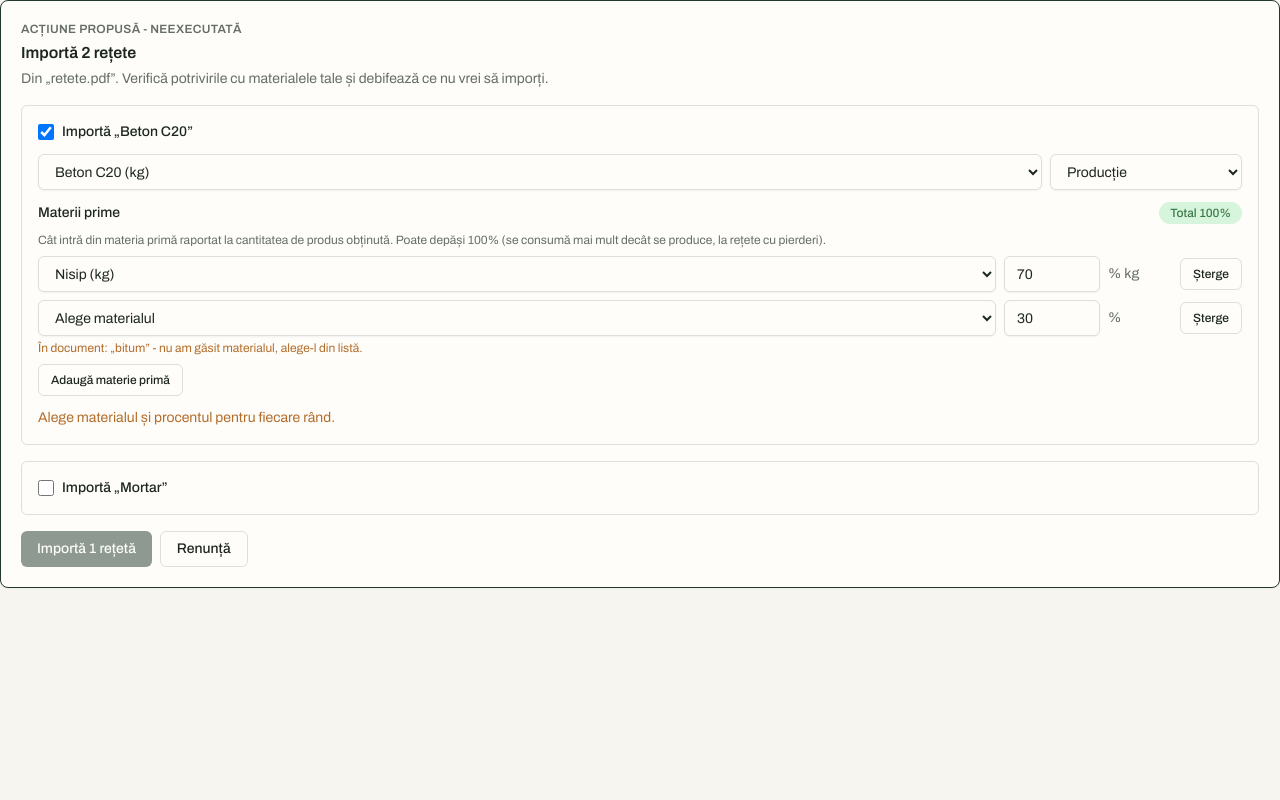
Scenario: ActionCard - randerul recipe_import › bifarea unui produs care are deja reteta blocheaza confirmarea, cu explicatie
The width and height of the screenshot is (1280, 800).
Click the checkbox labelled "Importă „Mortar”".
click(46, 488)  # box [38,480,54,496]
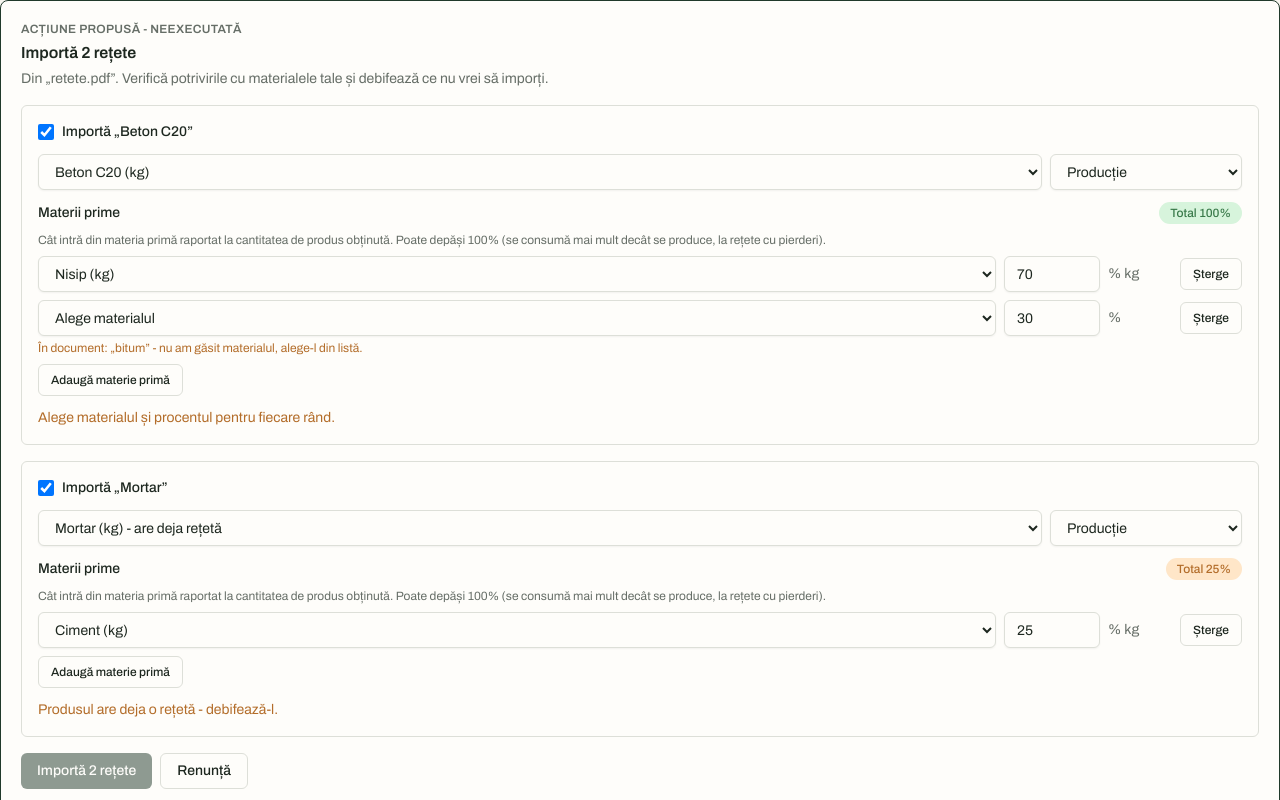
expect the button "Importă 2 rețete" is disabled: met, box [21,753,152,789]
expect the text "Produsul are deja o rețetă - debifează-l." is shown: met, box [38,702,278,717]
